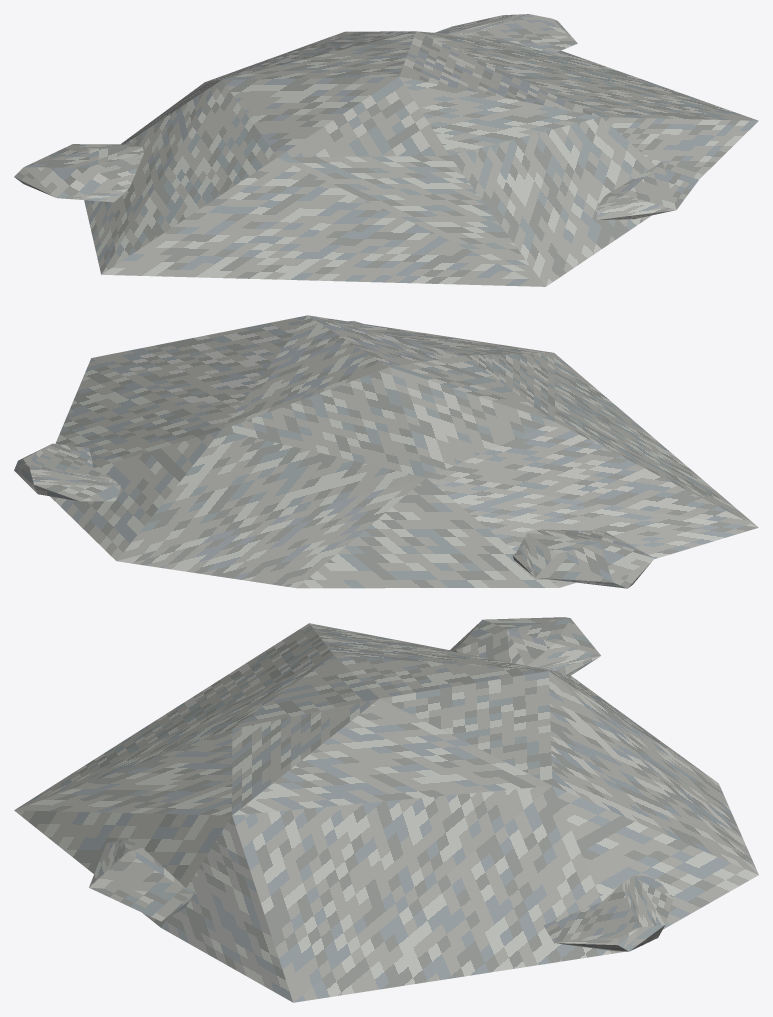
The model's file is tin.glb.
3 renders of one model, top to bottom at view 1: azimuth 30°, elevation 25°; view 2: azimuth 150°, elevation 25°; view 3: azimuth 270°, elevation 25°, orthographic. The views are drawn at different scales.
Visible parts, largest first — view 1: block_loose fine tin powder, block_powder spill (×3); view 2: block_loose fine tin powder, block_powder spill (×2); view 3: block_loose fine tin powder, block_powder spill (×3).
Part boxes in pixels (x1,y1,x2,y2): block_loose fine tin powder: [84, 31, 758, 286]; block_powder spill (×3): [14, 14, 702, 219]; block_loose fine tin powder: [50, 315, 758, 588]; block_powder spill (×2): [14, 443, 654, 588]; block_loose fine tin powder: [14, 623, 758, 1002]; block_powder spill (×3): [89, 617, 672, 951].
Bounding box in the file's own units: 0.019 × 0.00269 × 0.0158.
1 material, 1 textured.
